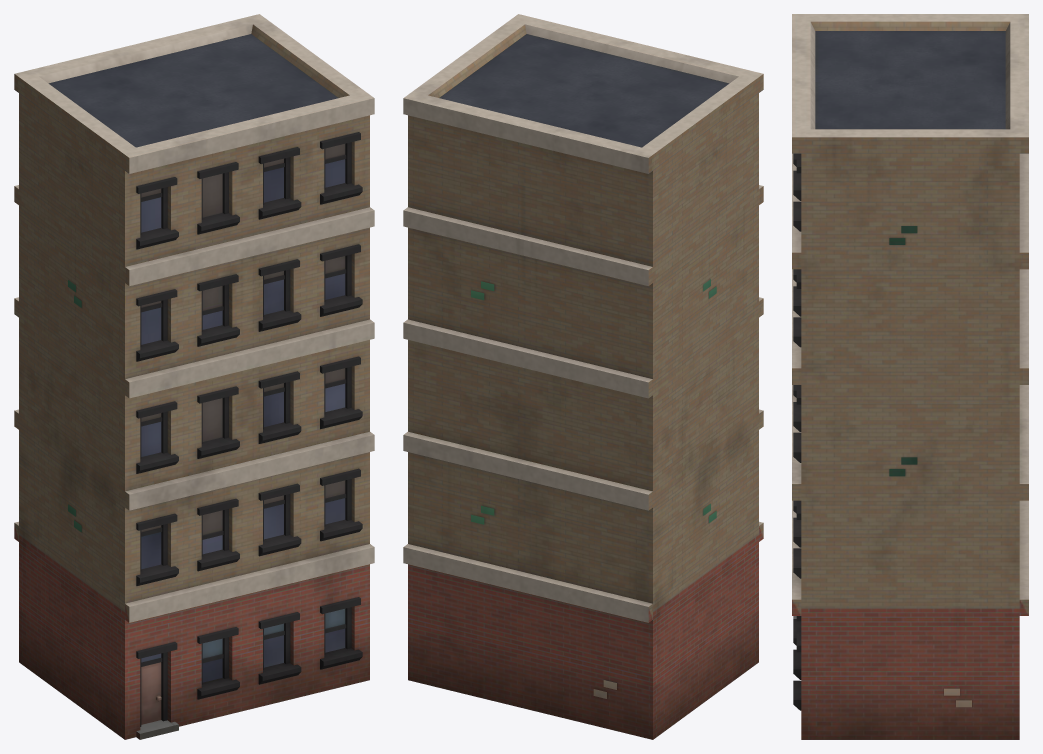
The model's file is building_D_6f.glb.
3 renders of one model, left to right at view 1: azimuth 30°, elevation 25°; view 2: azimuth 150°, elevation 25°; view 3: azimuth 270°, elevation 25°, orthographic. The views are drawn at different scales.
Visible parts, largest first — view 1: ground; view 2: ground; view 3: ground.
Boxes of the visible parts, x1,y1,x2,y2 form: ground: (14,14,374,739); ground: (403,14,763,739); ground: (792,14,1028,739).
Size of the model in its own units: 1.61 by 3.65 by 1.3.
Materials: 2 (2 with a texture image).
